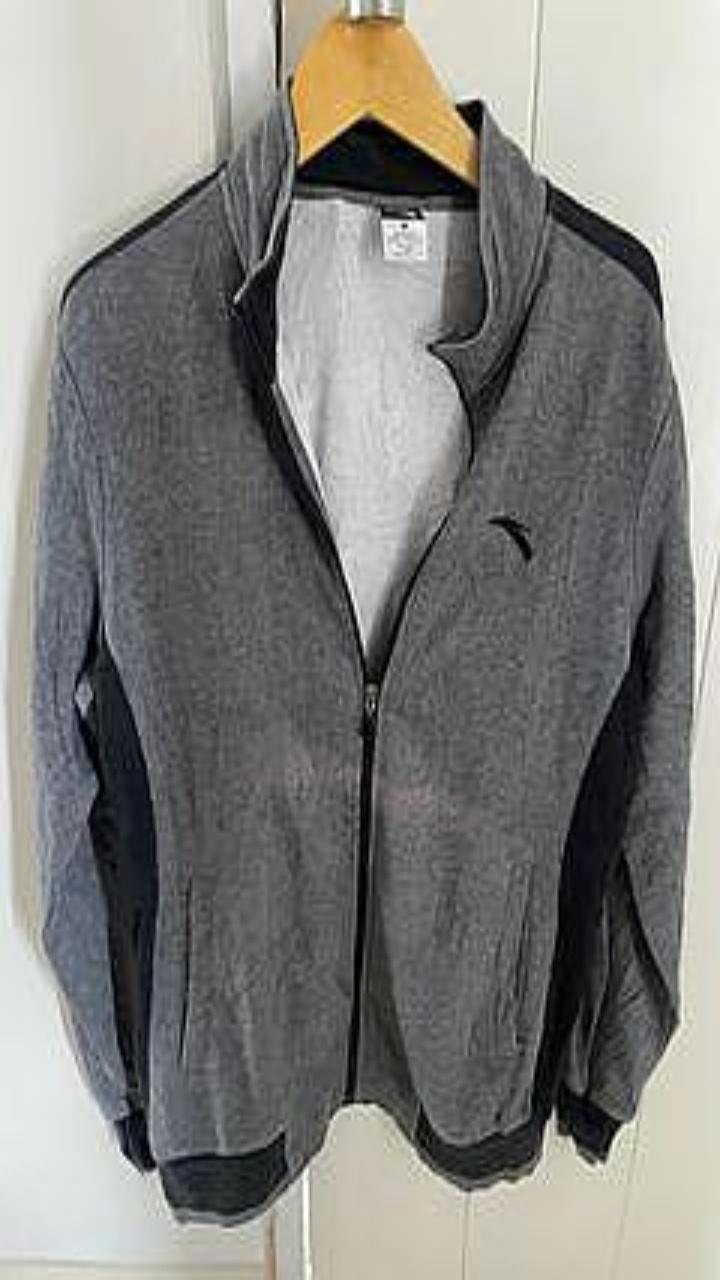Sports_Jacket: (32, 77, 694, 1222)
